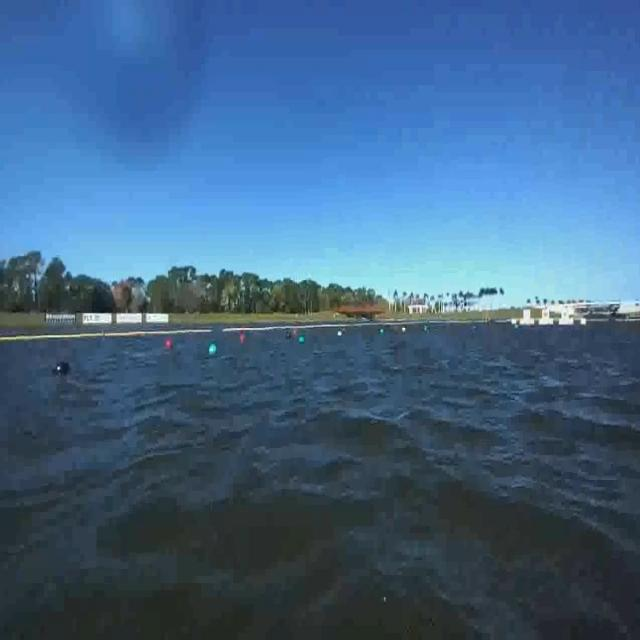black-buoy: (53, 363, 74, 378)
green-buoy: (209, 343, 218, 356)
red-buoy: (163, 340, 177, 352)
